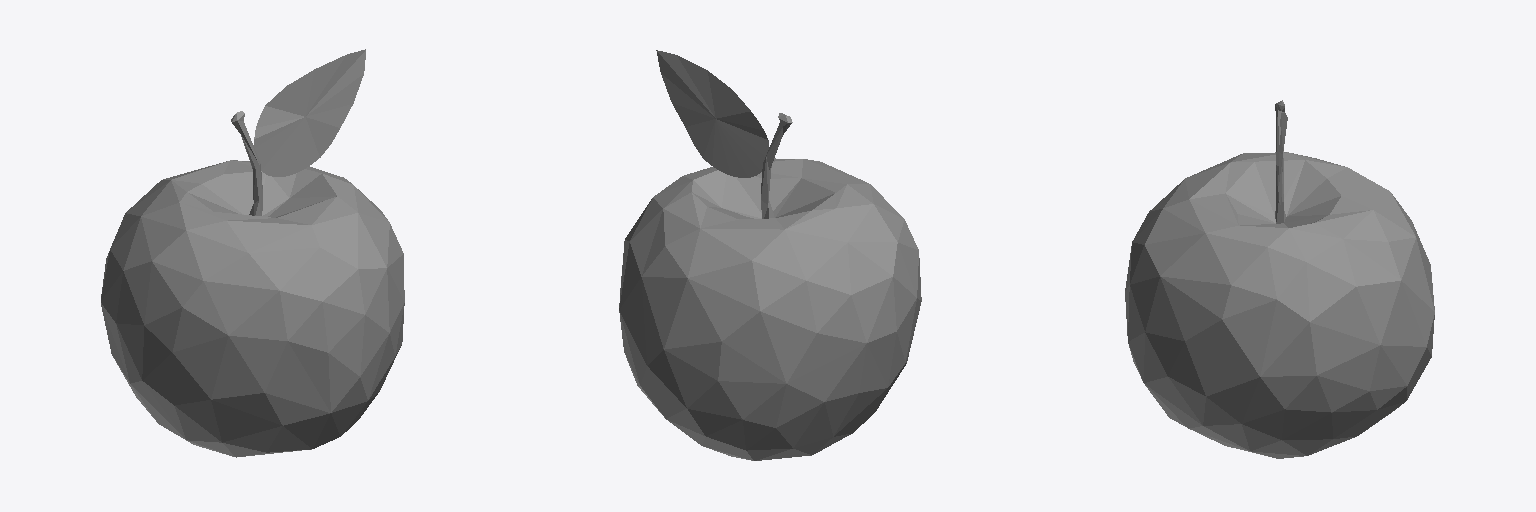
The model's file is apple.obj.
3 views of the same model, side by side, from view 1: azimuth 30°, elevation 25°; view 2: azimuth 150°, elevation 25°; view 3: azimuth 270°, elevation 25° (orthographic).
Visible parts, largest first — view 1: Apple; view 2: Apple; view 3: Apple.
Part boxes in pixels (x1,y1,x2,y2): Apple: (101, 49, 404, 457); Apple: (619, 50, 921, 460); Apple: (1125, 100, 1434, 458).
Bounding box in the file's own units: 15.65 × 19.92 × 15.63.